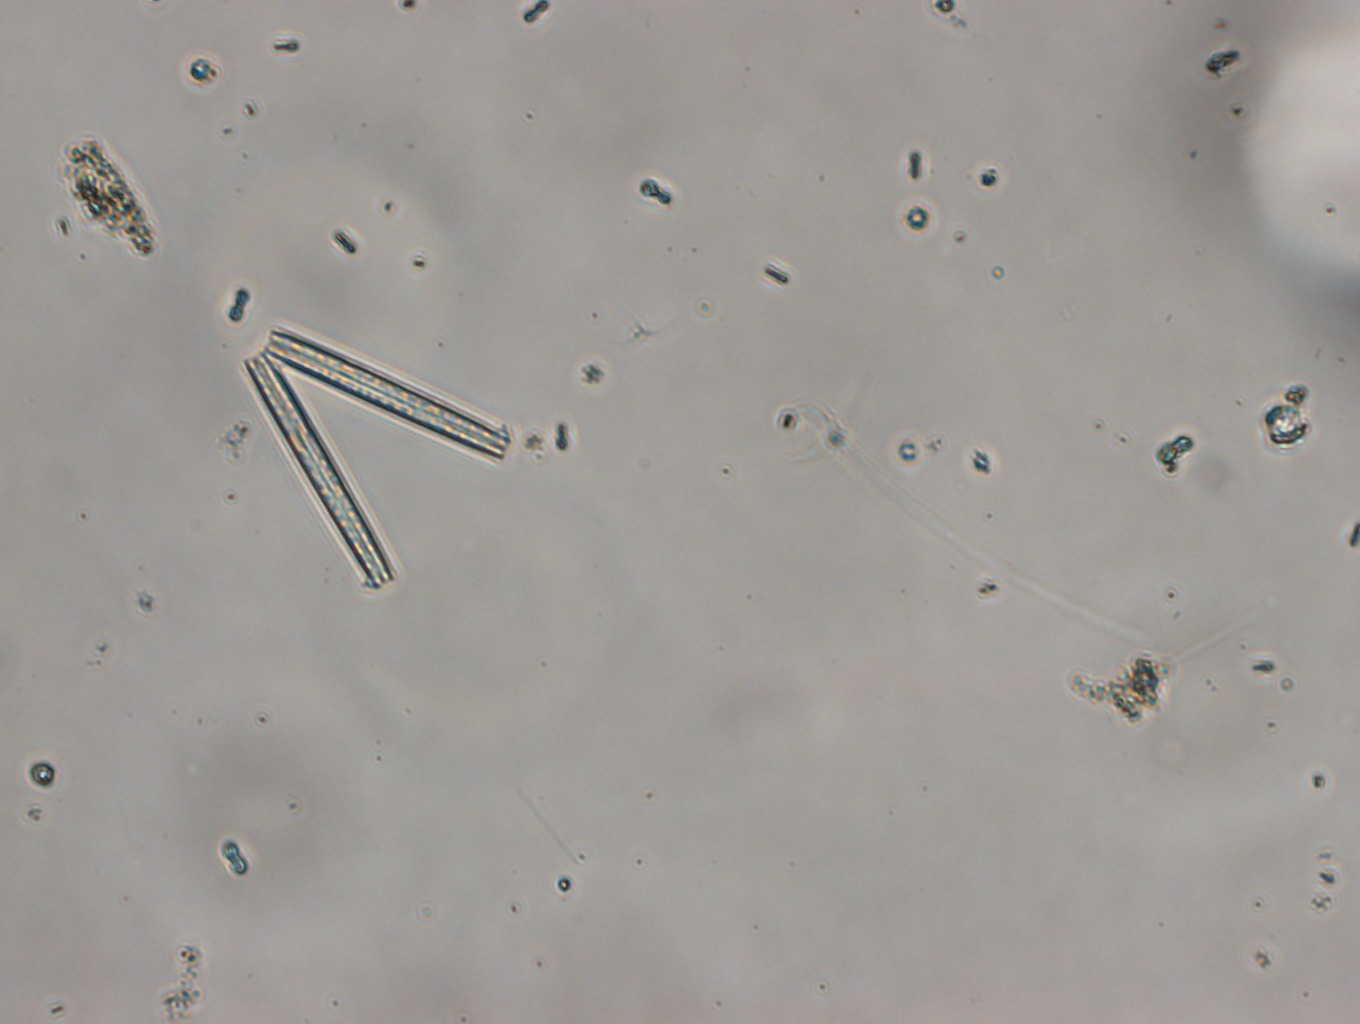thalassionema nitzschioides: (234, 323, 515, 594)
